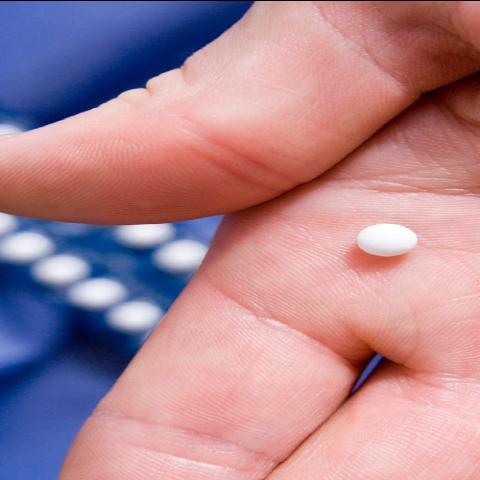Pill: (352, 217, 426, 276)
